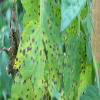Tomato Septoria leaf spot: (10, 2, 66, 99), (64, 29, 93, 99)
